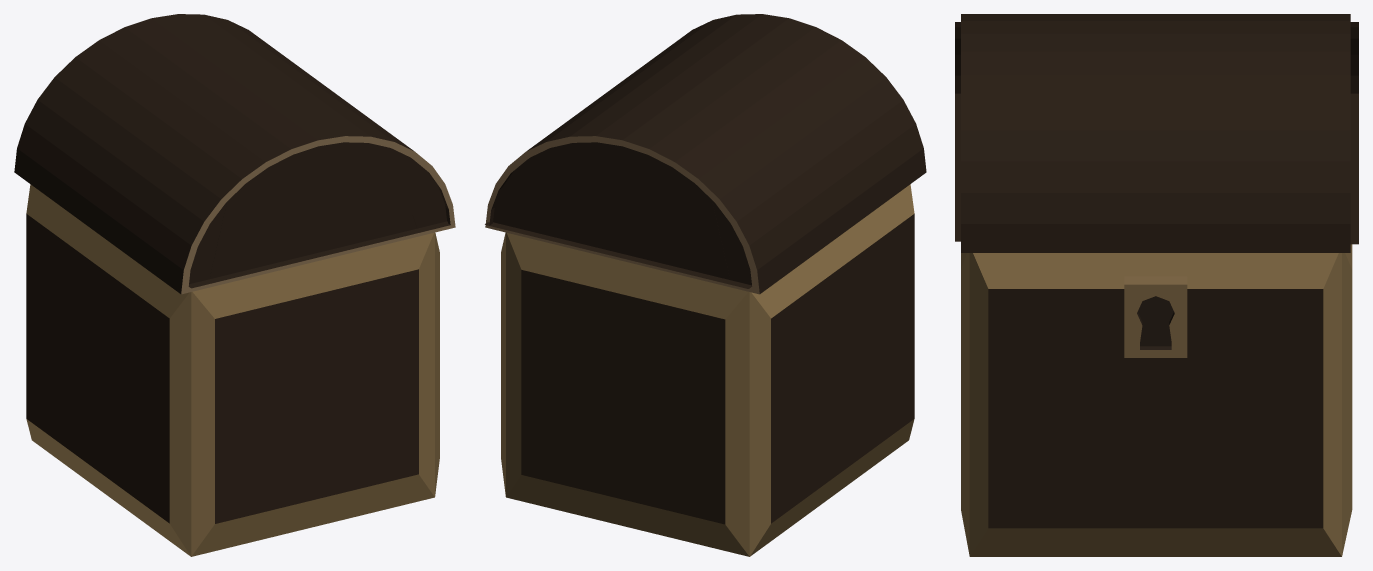
Rendered from chest.fbx.
3 renders of one model, left to right at view 1: azimuth 30°, elevation 25°; view 2: azimuth 150°, elevation 25°; view 3: azimuth 270°, elevation 25°, orthographic. The views are drawn at different scales.
Parts seen in each view (by area): view 1: Peti, Cube.001; view 2: Peti, Cube.001; view 3: Peti, Cube.001, Cube.
Part boxes in pixels (bbox=[...]): Peti: bbox=[26, 184, 439, 556]; Cube.001: bbox=[14, 14, 455, 294]; Peti: bbox=[501, 184, 914, 556]; Cube.001: bbox=[485, 14, 926, 294]; Peti: bbox=[961, 244, 1352, 556]; Cube.001: bbox=[955, 14, 1358, 252]; Cube: bbox=[1124, 276, 1187, 357].
Size of the model in its own units: 95.96 by 127 by 102.
